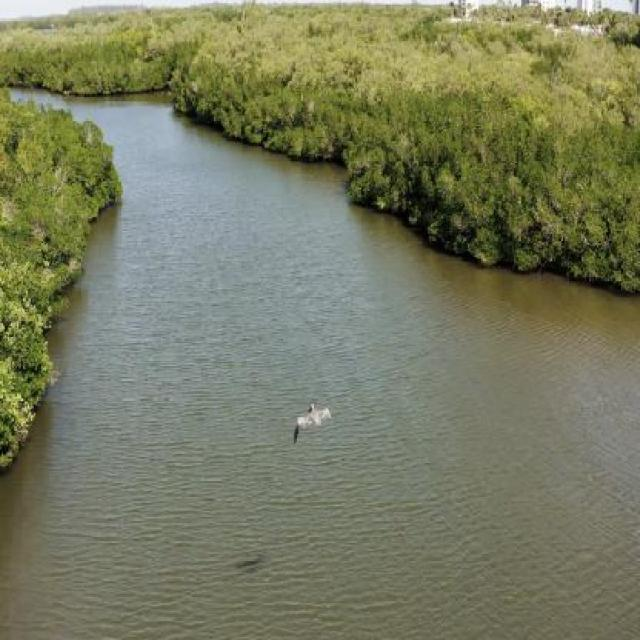bird: (279, 394, 336, 451)
